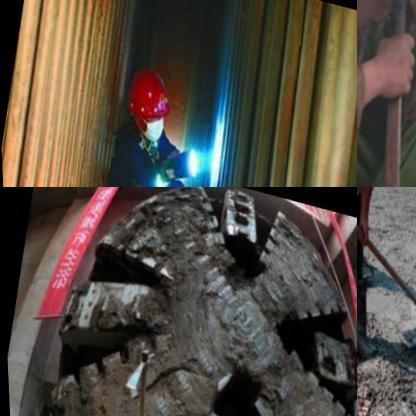helmet: (116, 57, 177, 143)
